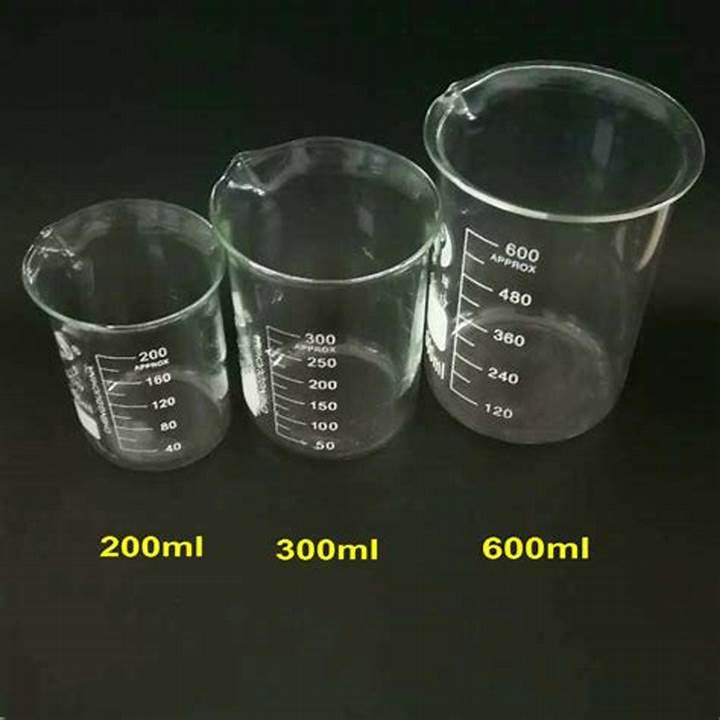Beaker: (411, 52, 703, 468), (28, 192, 228, 466)
